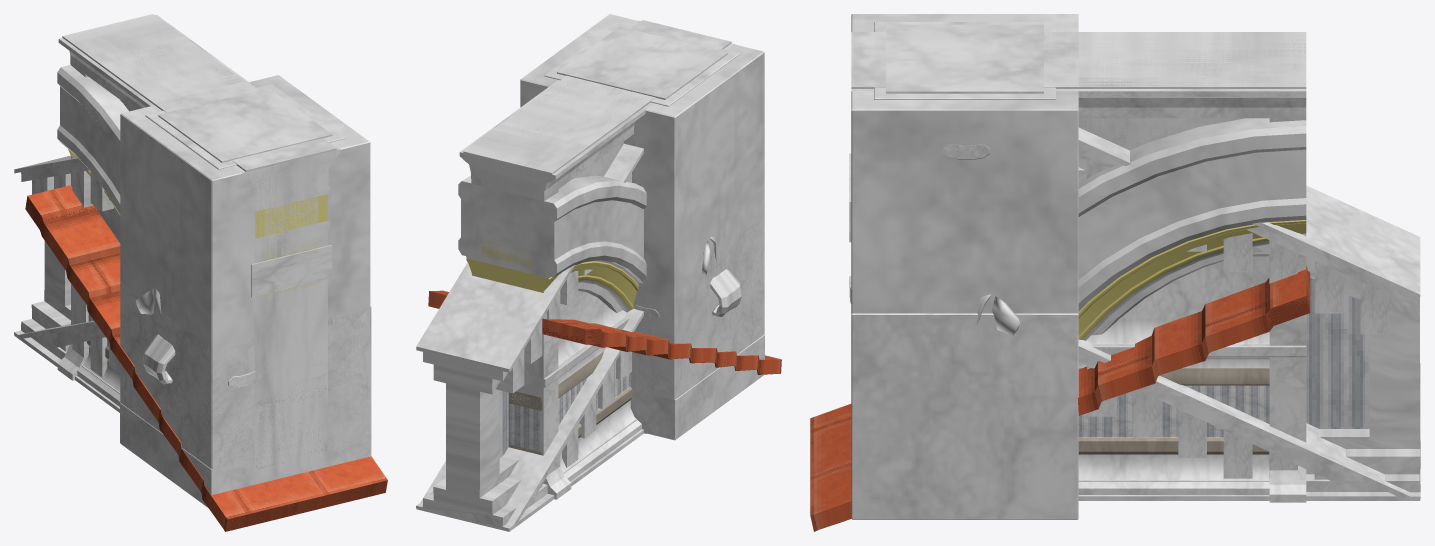
Rendered from marble-palace.glb.
The picture shows the model from 3 angles, left to right: view 1: azimuth 30°, elevation 25°; view 2: azimuth 150°, elevation 25°; view 3: azimuth 270°, elevation 25°; orthographic projection. The views are drawn at different scales.
Visible parts, largest first — view 1: MarbleCubeTall, MarbleWall, MarbleCube, TiledRoof, MarbleWallUpperDoubleDoor, MarbleStairs, MarbleWallUpperArched, MarblePillarUpper, MarbleWallDoorArch, MarbleArch, MarbleGableTall, MarbleWallUpper (+10 smaller); view 2: MarbleCubeTall, MarbleGableTall, MarbleArch, MarbleWallUpperDoubleDoor, MarbleWallUpperArched, MarbleCube, MarbleGable, MarblePillarUpper, MarbleWallDoubleDoors, MarbleStairs, TiledRoof, MarbleWallUpper (+3 smaller); view 3: MarbleCubeTall, MarbleStairs, MarbleGableTall, MarbleWallUpperDoubleDoor, MarbleArch, TiledRoof, MarbleWallUpperArched, MarbleGable, MarbleWallDoubleDoors, MarblePillarUpper, MarbleWallUpper, MarblePillarSquare (+2 smaller).
Part boxes in pixels (x1=…): MarbleCubeTall: x1=120, y1=75, x2=370, y2=507; MarbleWall: x1=154, y1=82, x2=340, y2=485; MarbleCube: x1=120, y1=281, x2=369, y2=506; TiledRoof: x1=25, y1=185, x2=387, y2=531; MarbleWallUpperDoubleDoor: x1=62, y1=15, x2=330, y2=478; MarbleStairs: x1=120, y1=306, x2=371, y2=506; MarbleWallUpperArched: x1=62, y1=14, x2=336, y2=470; MarblePillarUpper: x1=158, y1=88, x2=332, y2=162; MarbleWallDoorArch: x1=242, y1=83, x2=339, y2=478; MarbleArch: x1=57, y1=65, x2=128, y2=215; MarbleGableTall: x1=14, y1=155, x2=120, y2=412; MarbleWallUpper: x1=154, y1=86, x2=336, y2=483; MarbleCubeTall: x1=520, y1=14, x2=764, y2=438; MarbleGableTall: x1=416, y1=143, x2=643, y2=531; MarbleArch: x1=458, y1=175, x2=646, y2=312; MarbleWallUpperDoubleDoor: x1=464, y1=25, x2=725, y2=494; MarbleWallUpperArched: x1=463, y1=20, x2=729, y2=198; MarbleCube: x1=634, y1=215, x2=764, y2=440; MarbleGable: x1=420, y1=308, x2=643, y2=530; MarblePillarUpper: x1=557, y1=26, x2=727, y2=99; MarbleWallDoubleDoors: x1=459, y1=21, x2=733, y2=499; MarbleStairs: x1=630, y1=334, x2=764, y2=439; TiledRoof: x1=428, y1=290, x2=781, y2=374; MarbleWallUpper: x1=561, y1=20, x2=731, y2=106; MarbleCubeTall: x1=851, y1=14, x2=1078, y2=313; MarbleStairs: x1=851, y1=313, x2=1078, y2=519; MarbleGableTall: x1=1078, y1=127, x2=1420, y2=500; MarbleWallUpperDoubleDoor: x1=860, y1=33, x2=1306, y2=494; MarbleArch: x1=1078, y1=118, x2=1306, y2=340; TiledRoof: x1=810, y1=265, x2=1310, y2=531; MarbleWallUpperArched: x1=851, y1=32, x2=1306, y2=177; MarbleGable: x1=1078, y1=339, x2=1416, y2=500; MarbleWallDoubleDoors: x1=851, y1=89, x2=1306, y2=502; MarblePillarUpper: x1=886, y1=24, x2=1043, y2=93; MarbleWallUpper: x1=851, y1=32, x2=1078, y2=88; MarblePillarSquare: x1=874, y1=22, x2=1055, y2=99.
Bounding box in the file's own units: 1.15 × 2.06 × 2.68.
6 materials, 5 textured.
